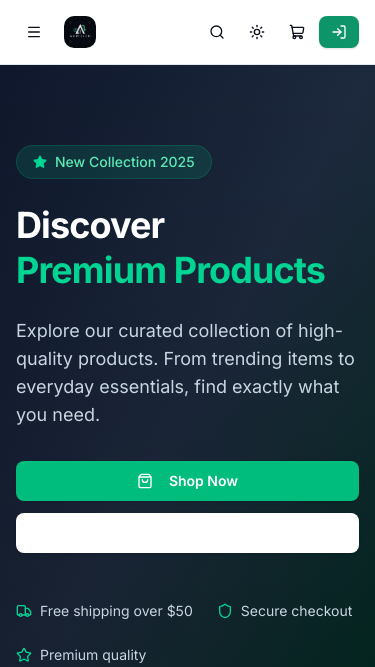
Test: Mobile Drawer – Opens and Navigates › drawer closes after clicking a link
Click the button with test id "mobile-menu" at coordinates (34, 32), box [16,14,52,50]
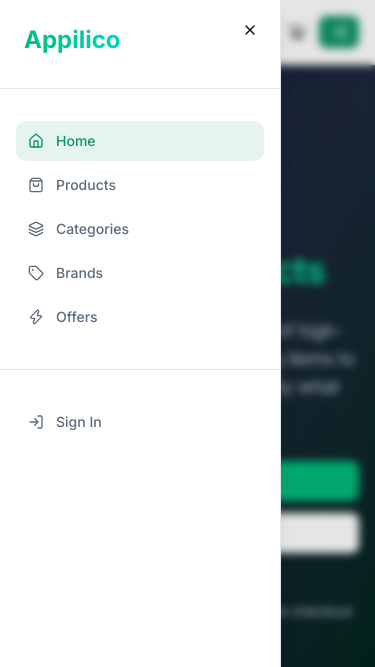
Click the link "Home" at coordinates (140, 141), box [16,121,264,161]
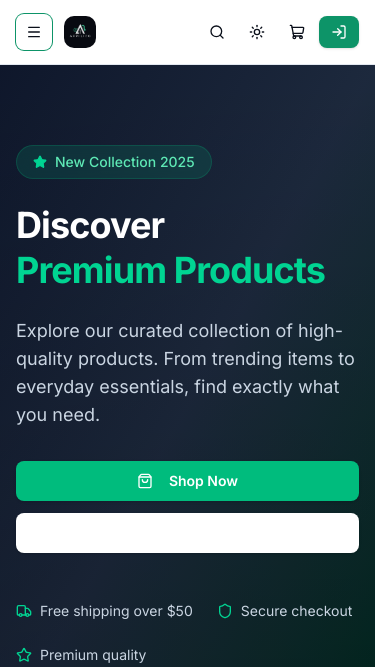
Check: the dialog is gone
